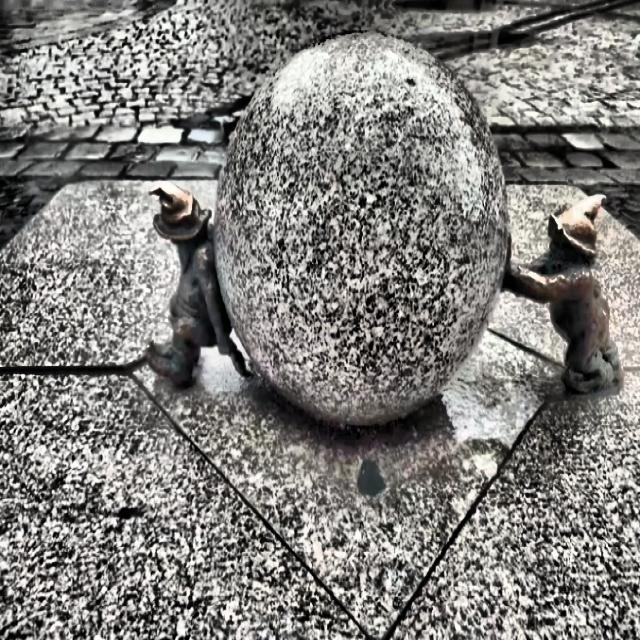Syzyfki: (132, 23, 630, 415)
